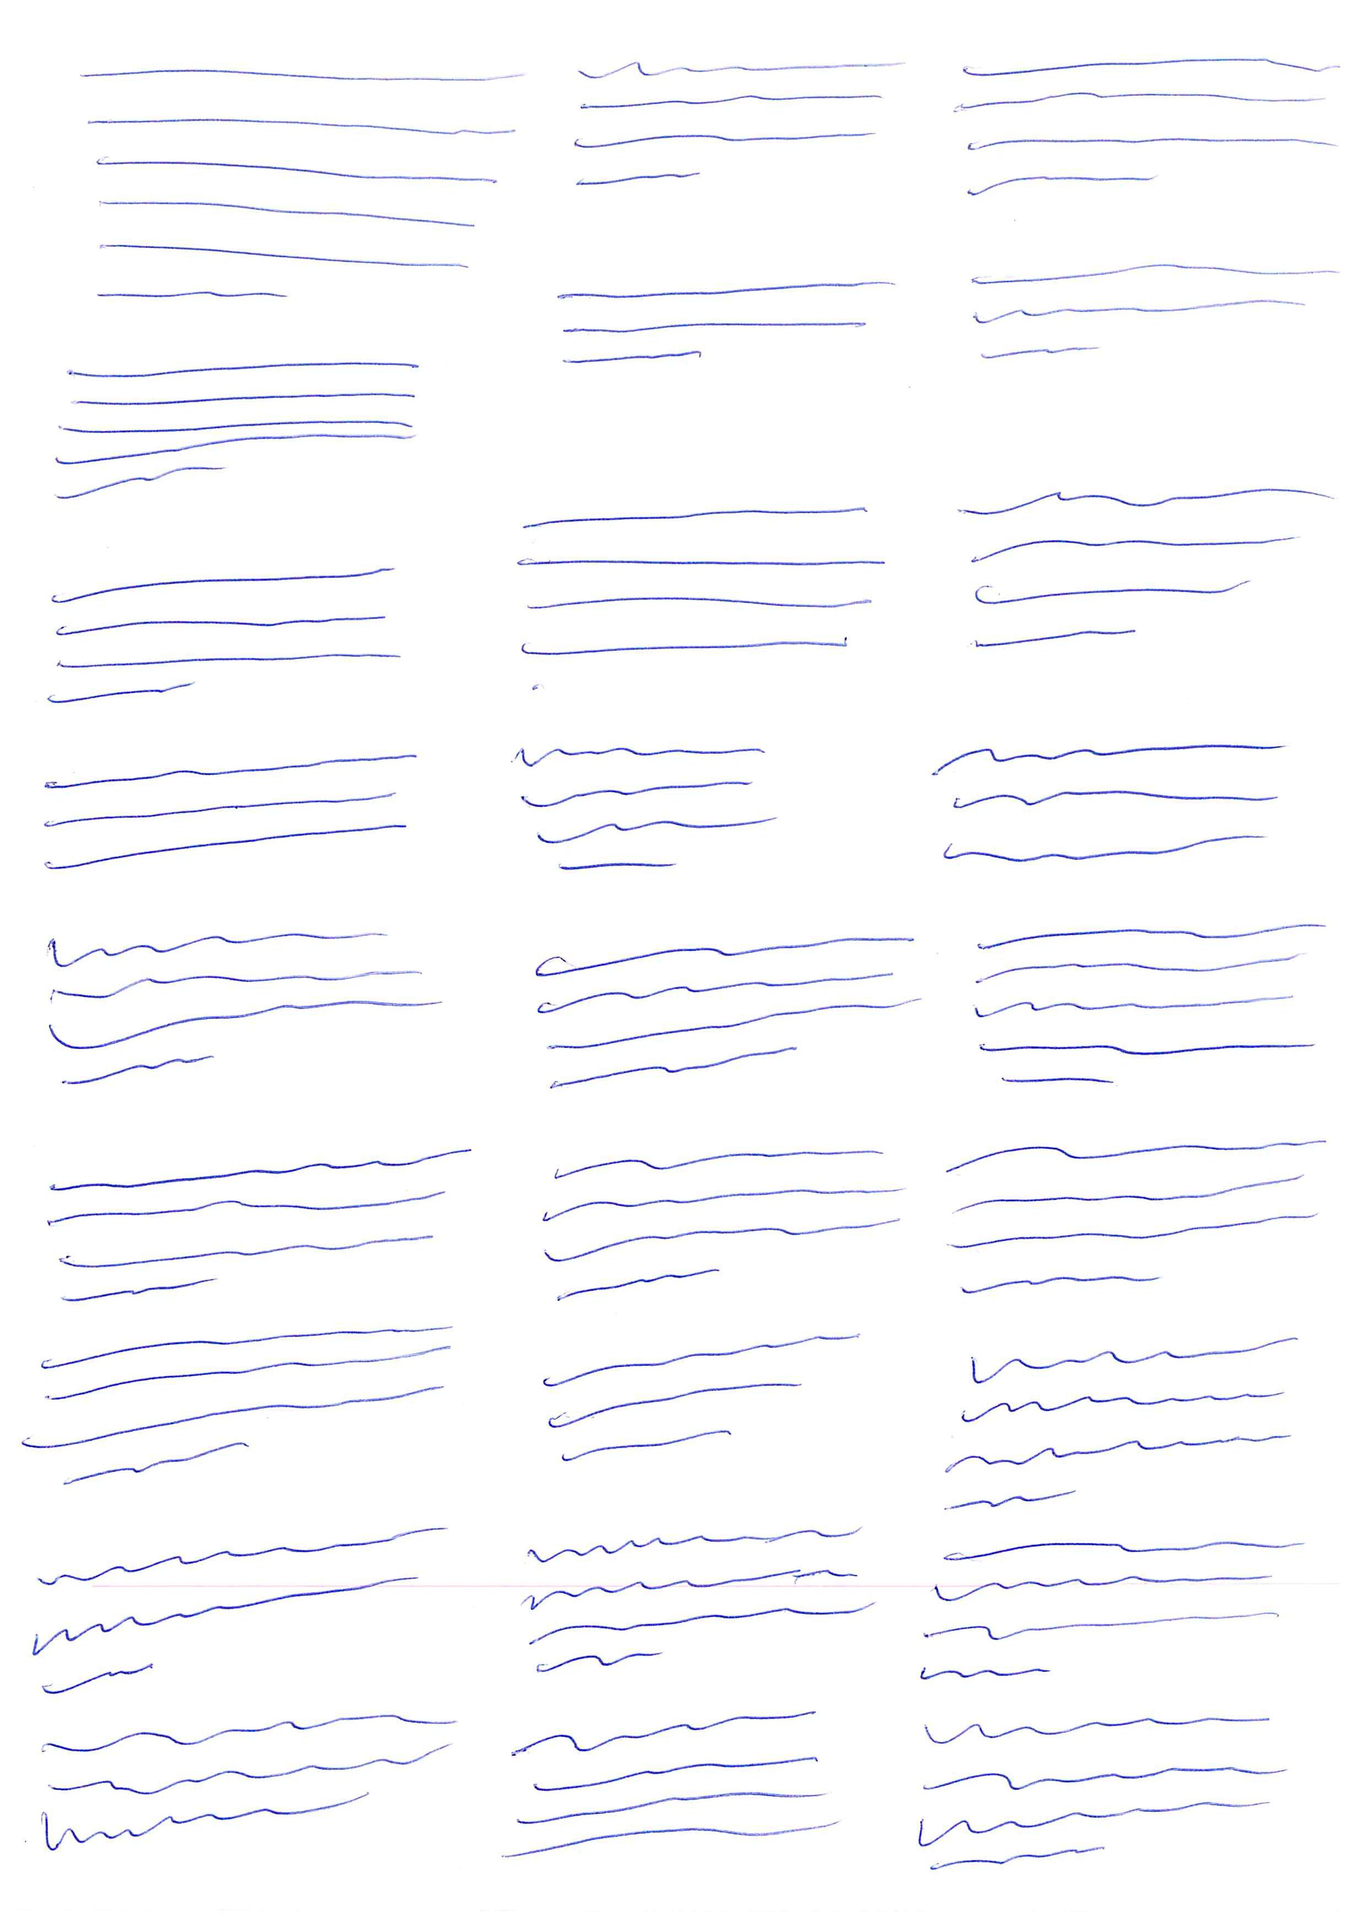Paragraph: (75, 69, 526, 302), (27, 1524, 452, 1694), (21, 1322, 457, 1486), (41, 1144, 472, 1307), (934, 1334, 1305, 1514), (44, 926, 446, 1090), (956, 482, 1350, 649), (942, 1134, 1333, 1301), (534, 929, 922, 1094), (909, 1709, 1294, 1876), (37, 1712, 466, 1854), (971, 920, 1329, 1090), (917, 1536, 1322, 1684), (537, 1144, 902, 1306), (516, 501, 884, 656), (956, 55, 1341, 201), (52, 356, 421, 506), (41, 562, 407, 713), (500, 1711, 840, 1866), (523, 1526, 871, 1674), (931, 733, 1289, 871), (38, 751, 421, 877), (537, 1326, 862, 1467), (571, 55, 902, 191), (965, 262, 1347, 362), (516, 742, 781, 871), (554, 274, 894, 370)
